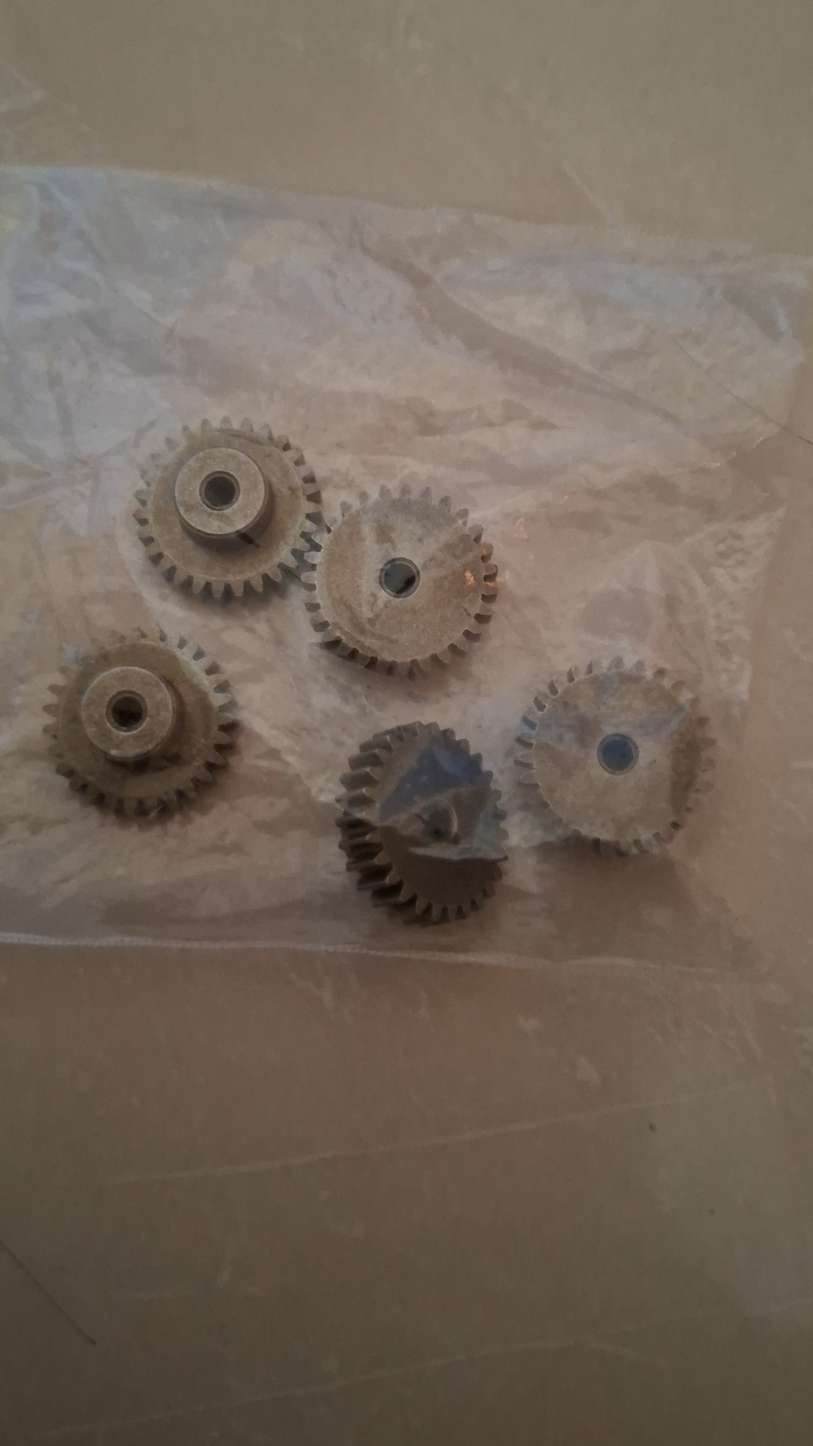spur gear: (516, 659, 711, 853), (303, 486, 497, 675), (46, 630, 234, 815), (134, 418, 321, 598), (338, 723, 505, 922)
